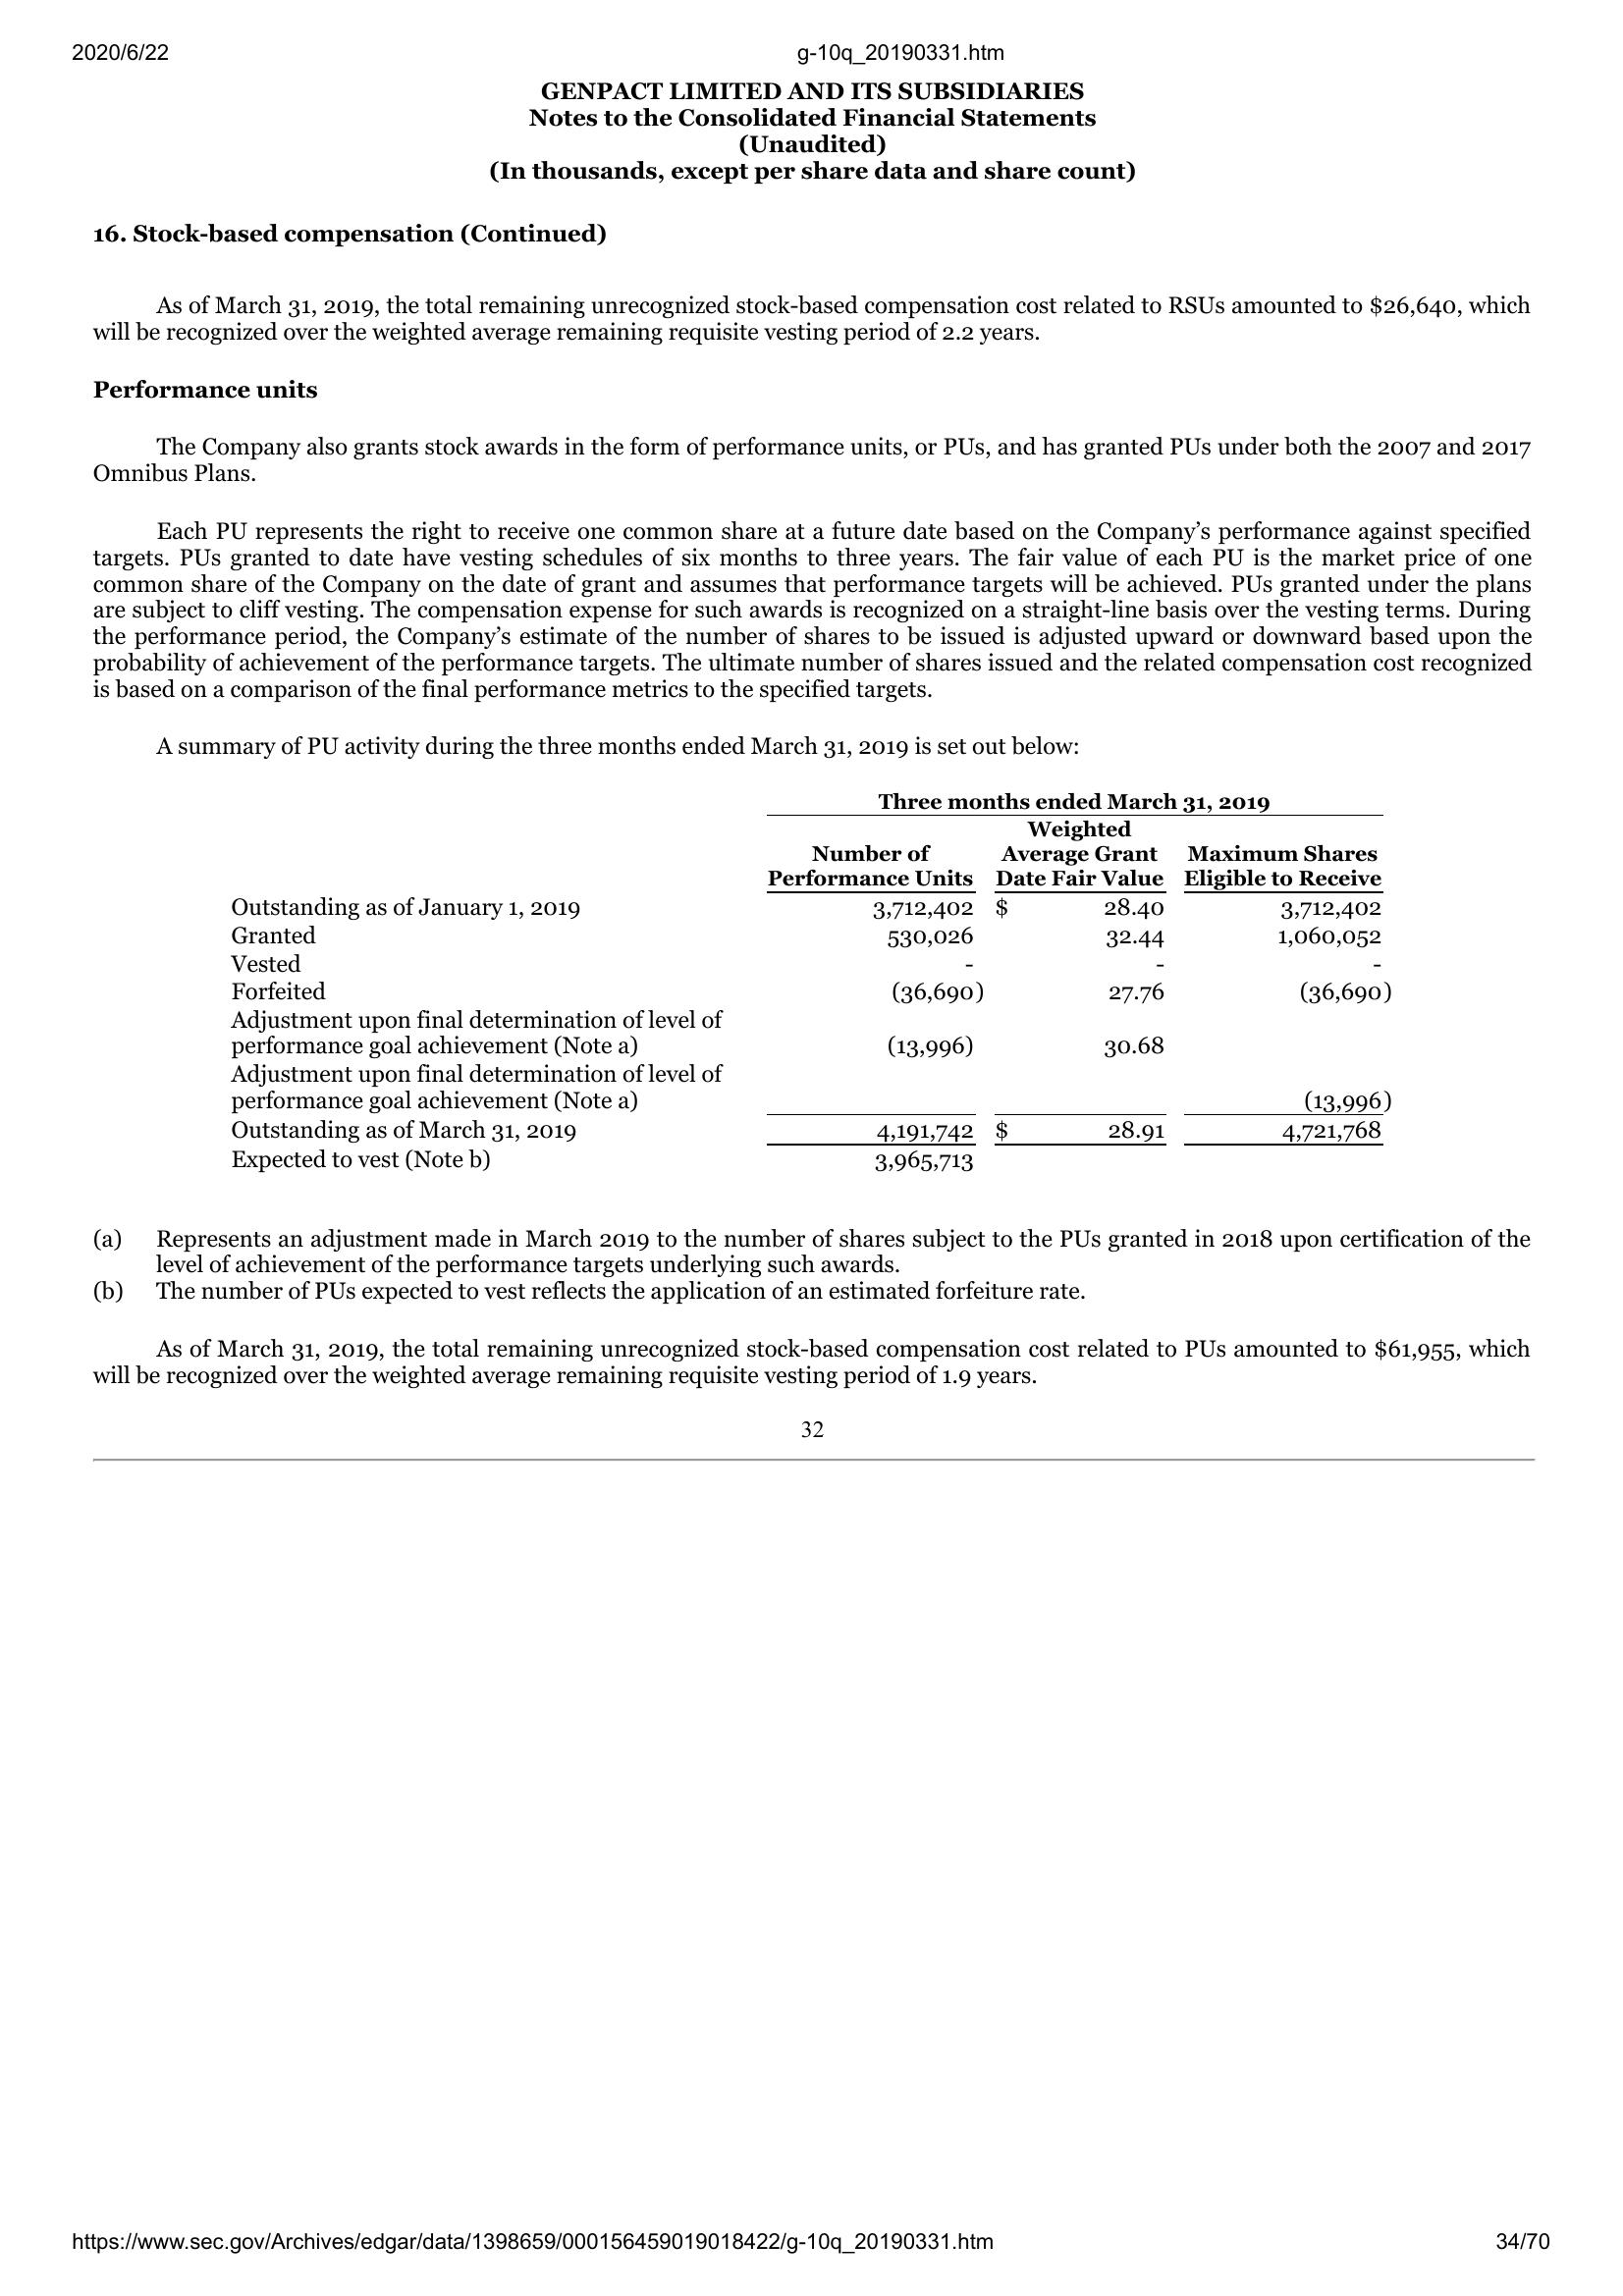table: (223, 783, 1393, 1181)
